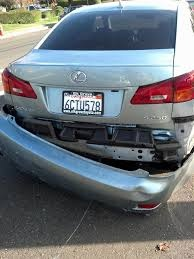Dent: (1, 105, 193, 214)
